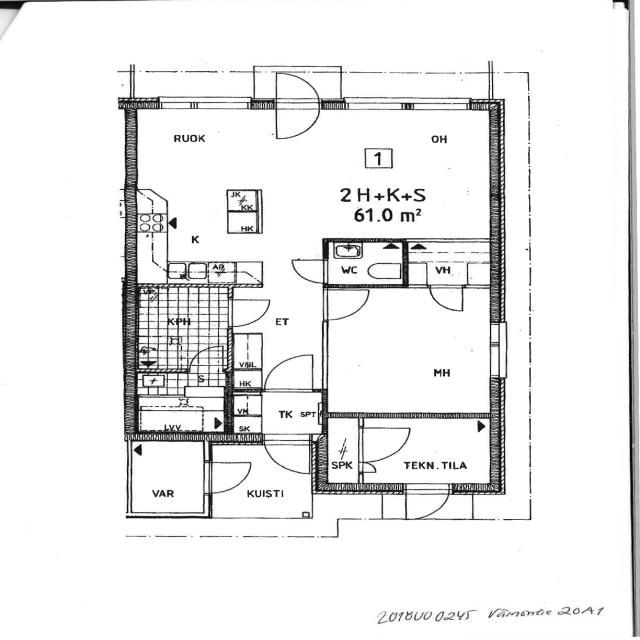door: (295, 247, 405, 287), (271, 69, 321, 140), (356, 424, 414, 466), (261, 352, 317, 393), (260, 435, 314, 476), (199, 458, 254, 496), (400, 482, 455, 520), (321, 286, 372, 321), (226, 297, 275, 329), (288, 256, 331, 286), (186, 343, 228, 368), (428, 284, 464, 312), (358, 462, 379, 474)
window: (338, 96, 472, 113), (150, 96, 253, 112), (316, 325, 337, 392), (409, 96, 469, 111)
zone: (116, 111, 515, 240), (323, 283, 504, 414), (136, 283, 232, 367), (128, 438, 209, 518), (402, 240, 494, 287), (236, 390, 328, 437), (134, 394, 229, 434), (324, 240, 406, 286)
